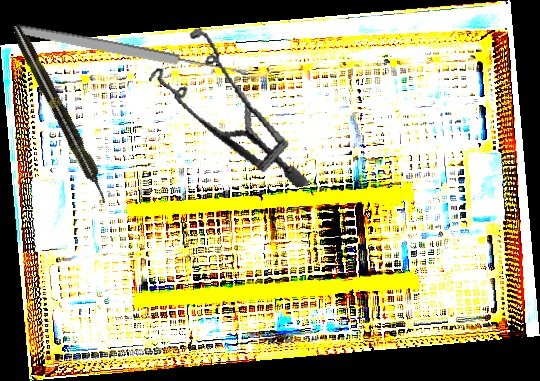Handpiece: (7, 21, 114, 207)
Speculum: (141, 13, 310, 212)
Surgical Spoon: (13, 21, 248, 81)
